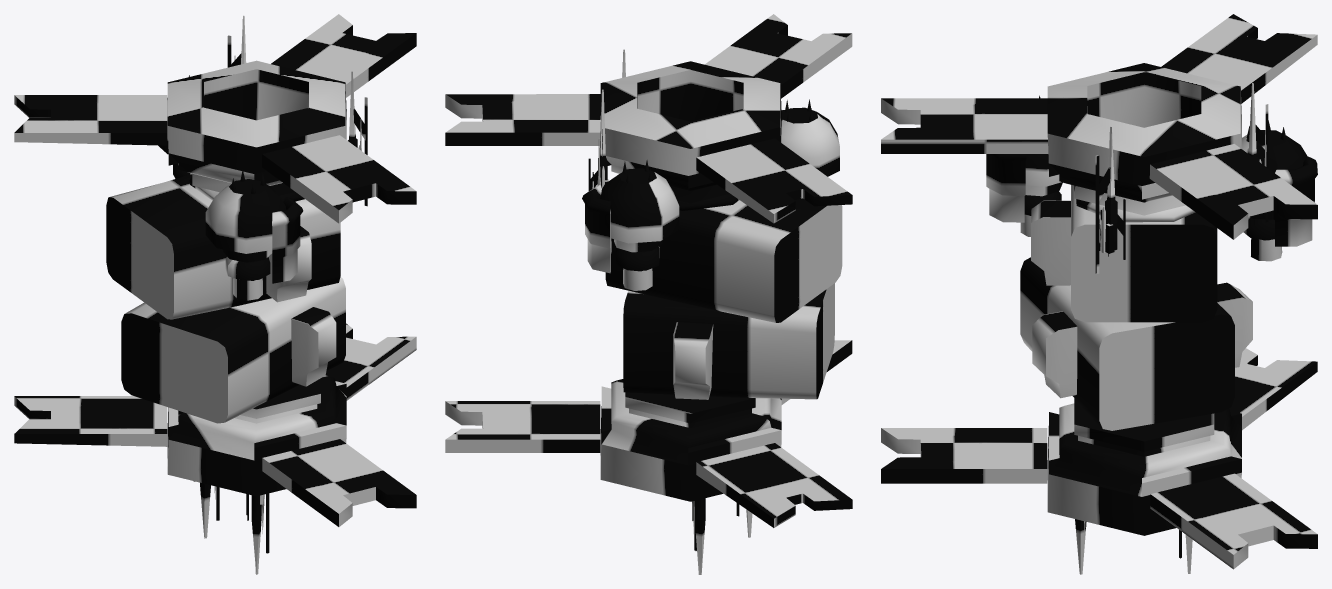
Rendered from building-hangar.obj.
The picture shows the model from 3 angles, left to right: view 1: azimuth 30°, elevation 25°; view 2: azimuth 150°, elevation 25°; view 3: azimuth 270°, elevation 25°; orthographic projection. The views are drawn at different scales.
Parts seen in each view (by area): view 1: upper, lower; view 2: upper, lower; view 3: upper, lower.
Boxes of the visible parts, x1,y1,x2,y2 form: upper: (14, 14, 416, 319); lower: (14, 277, 416, 574); upper: (445, 14, 852, 322); lower: (445, 283, 852, 574); upper: (881, 14, 1317, 322); lower: (881, 257, 1317, 574).
Size of the model in its own units: 431 by 496 by 374.
Materials: 2 (2 with a texture image).
